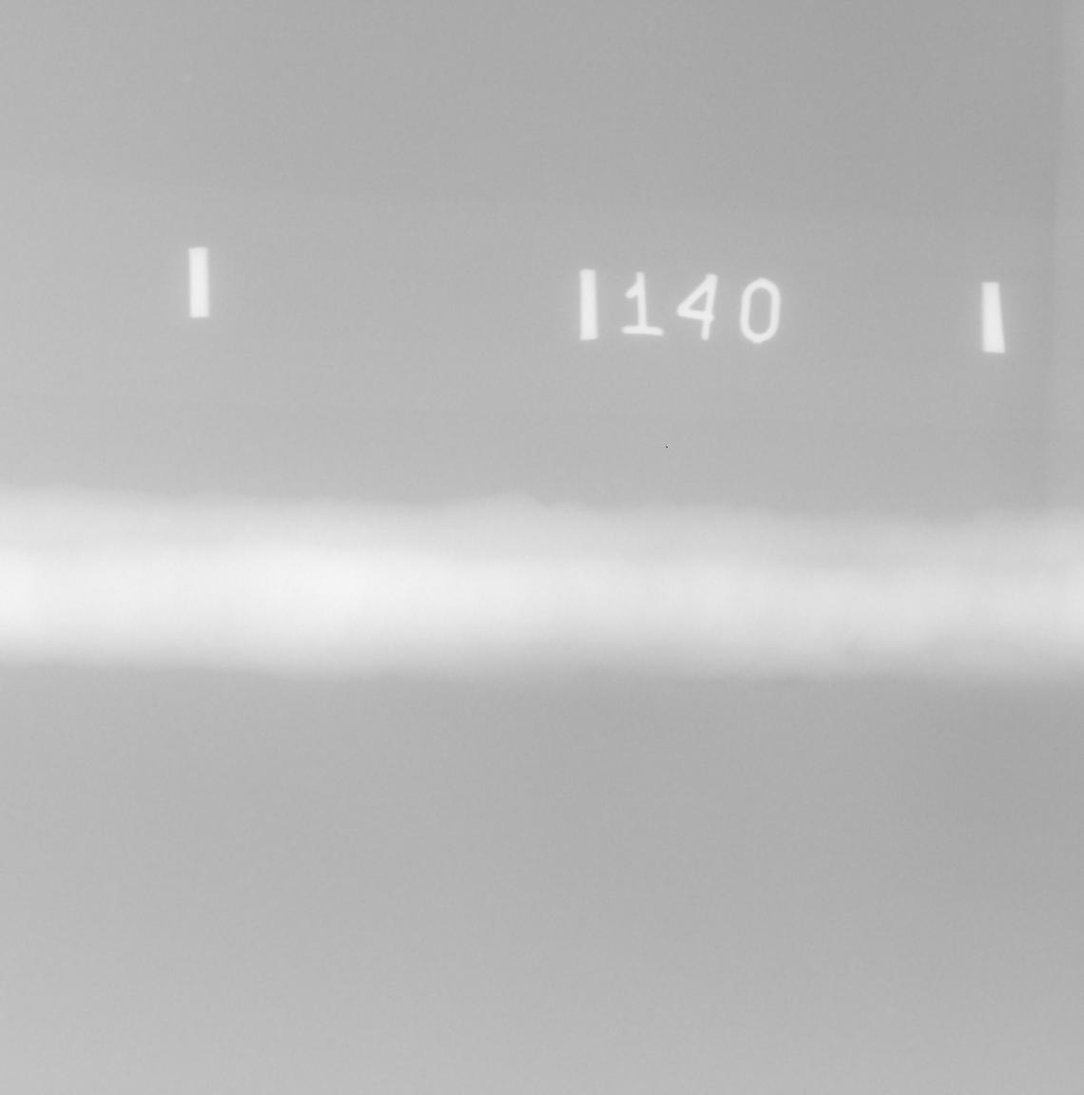Pore/Porosity: (564, 645, 569, 650)
